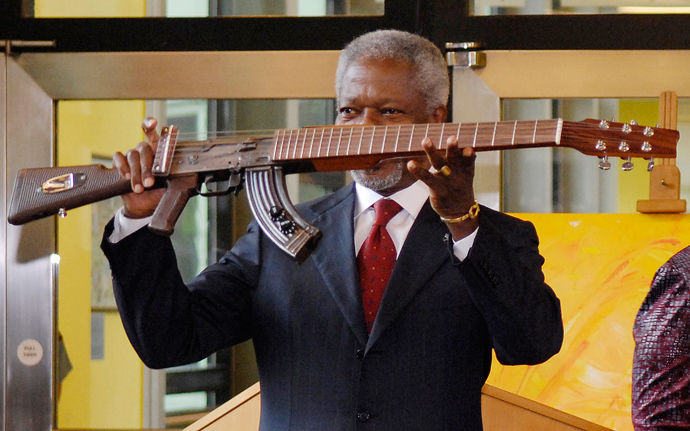Arma Falsa: (7, 115, 682, 249)
